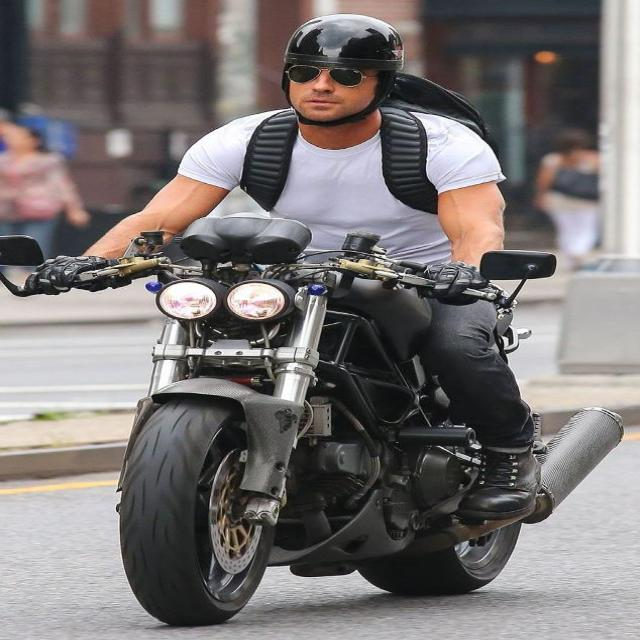helmet: (267, 0, 411, 121)
